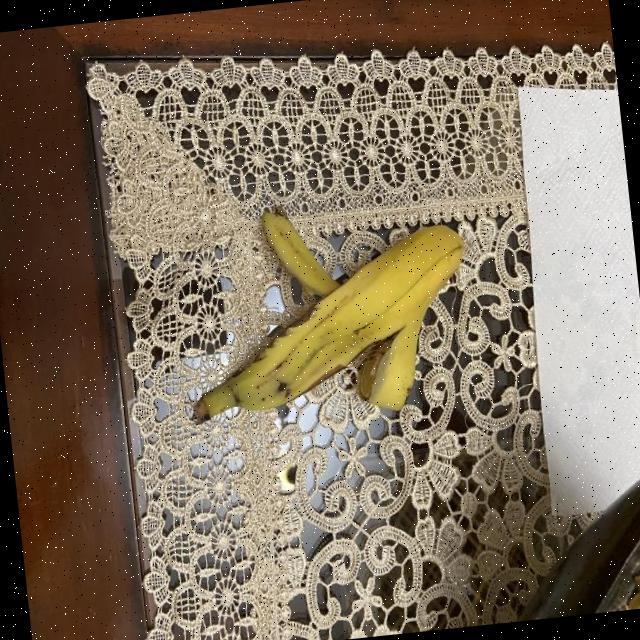banana-peel: (170, 188, 480, 432)
